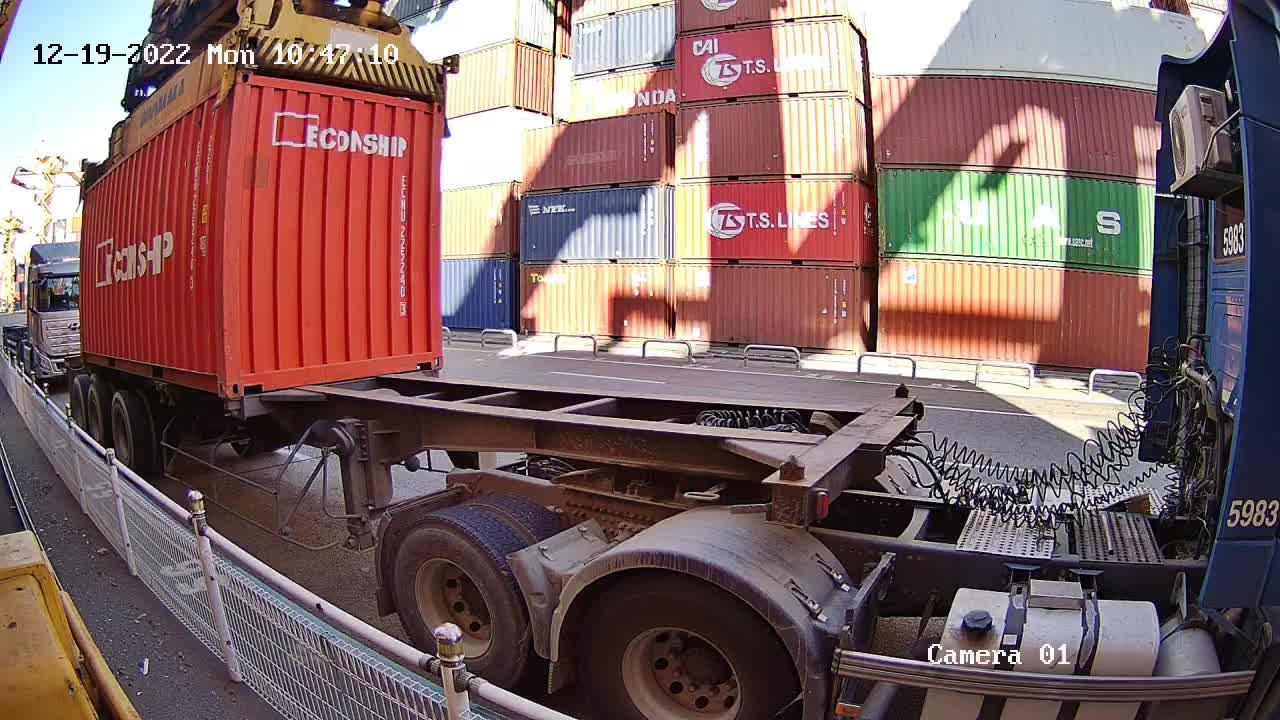Chassis: (242, 369, 441, 417)
Cone: (223, 399, 247, 421)
Hole_L: (227, 360, 270, 396)
Hole_R: (409, 338, 444, 373), (201, 362, 227, 400)
Tire: (575, 578, 799, 715), (391, 527, 522, 669), (110, 395, 133, 461), (87, 390, 102, 436), (70, 379, 84, 422)
